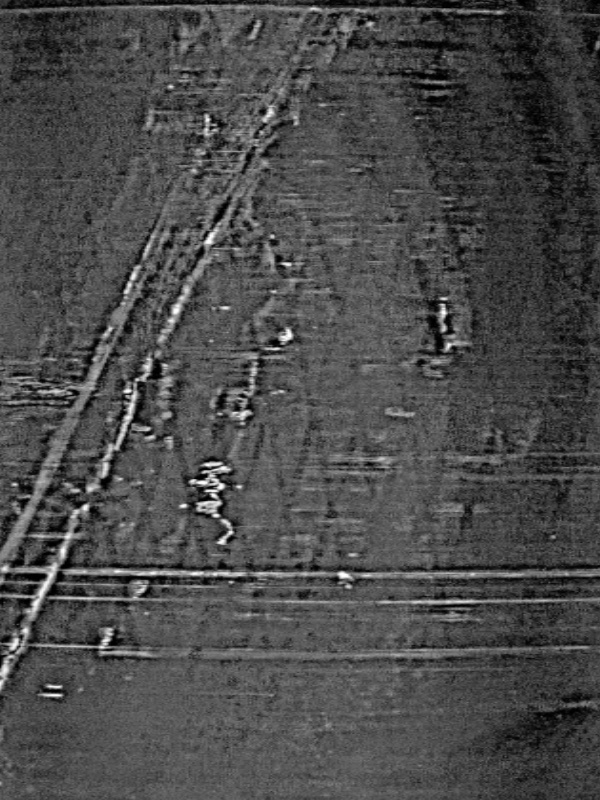splice_vulcanized: (1, 6, 355, 691)
